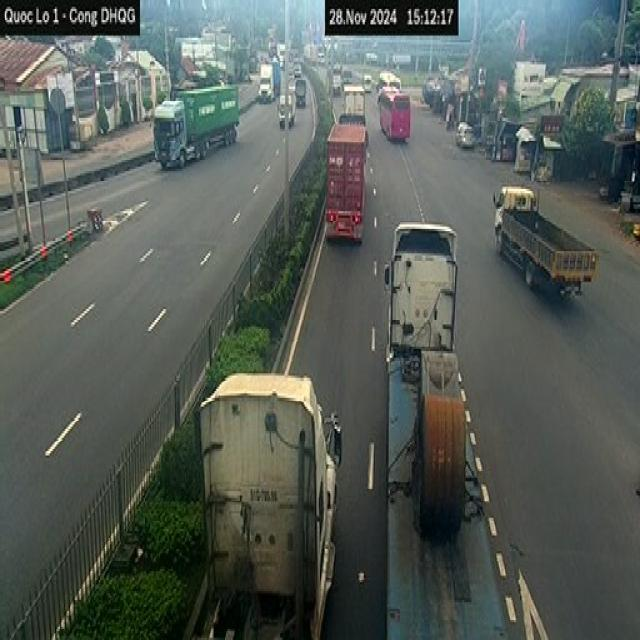container-truck: (383, 203, 503, 640), (185, 355, 348, 640), (319, 111, 372, 248)
truck: (493, 179, 601, 313), (146, 82, 245, 173)
